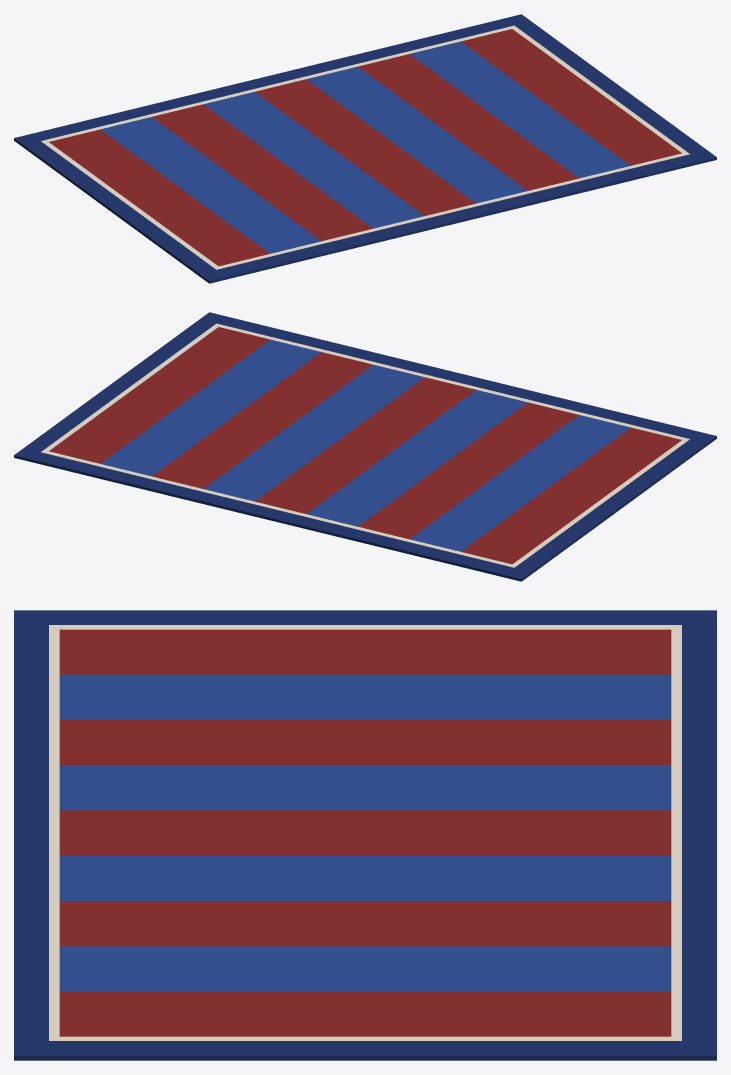
File: Prop_RugStripedRedBlue.fbx
The picture shows the model from 3 angles, top to bottom: view 1: azimuth 30°, elevation 25°; view 2: azimuth 150°, elevation 25°; view 3: azimuth 270°, elevation 25°; orthographic projection. The views are drawn at different scales.
Parts seen in each view (by area): view 1: Prop_RugStripedRedBlue; view 2: Prop_RugStripedRedBlue; view 3: Prop_RugStripedRedBlue.
Boxes of the visible parts, x1,y1,x2,y2 form: Prop_RugStripedRedBlue: [14, 14, 716, 283]; Prop_RugStripedRedBlue: [14, 312, 716, 581]; Prop_RugStripedRedBlue: [14, 610, 716, 1060].
Bounding box in the file's own units: 3 × 0.015 × 2.
